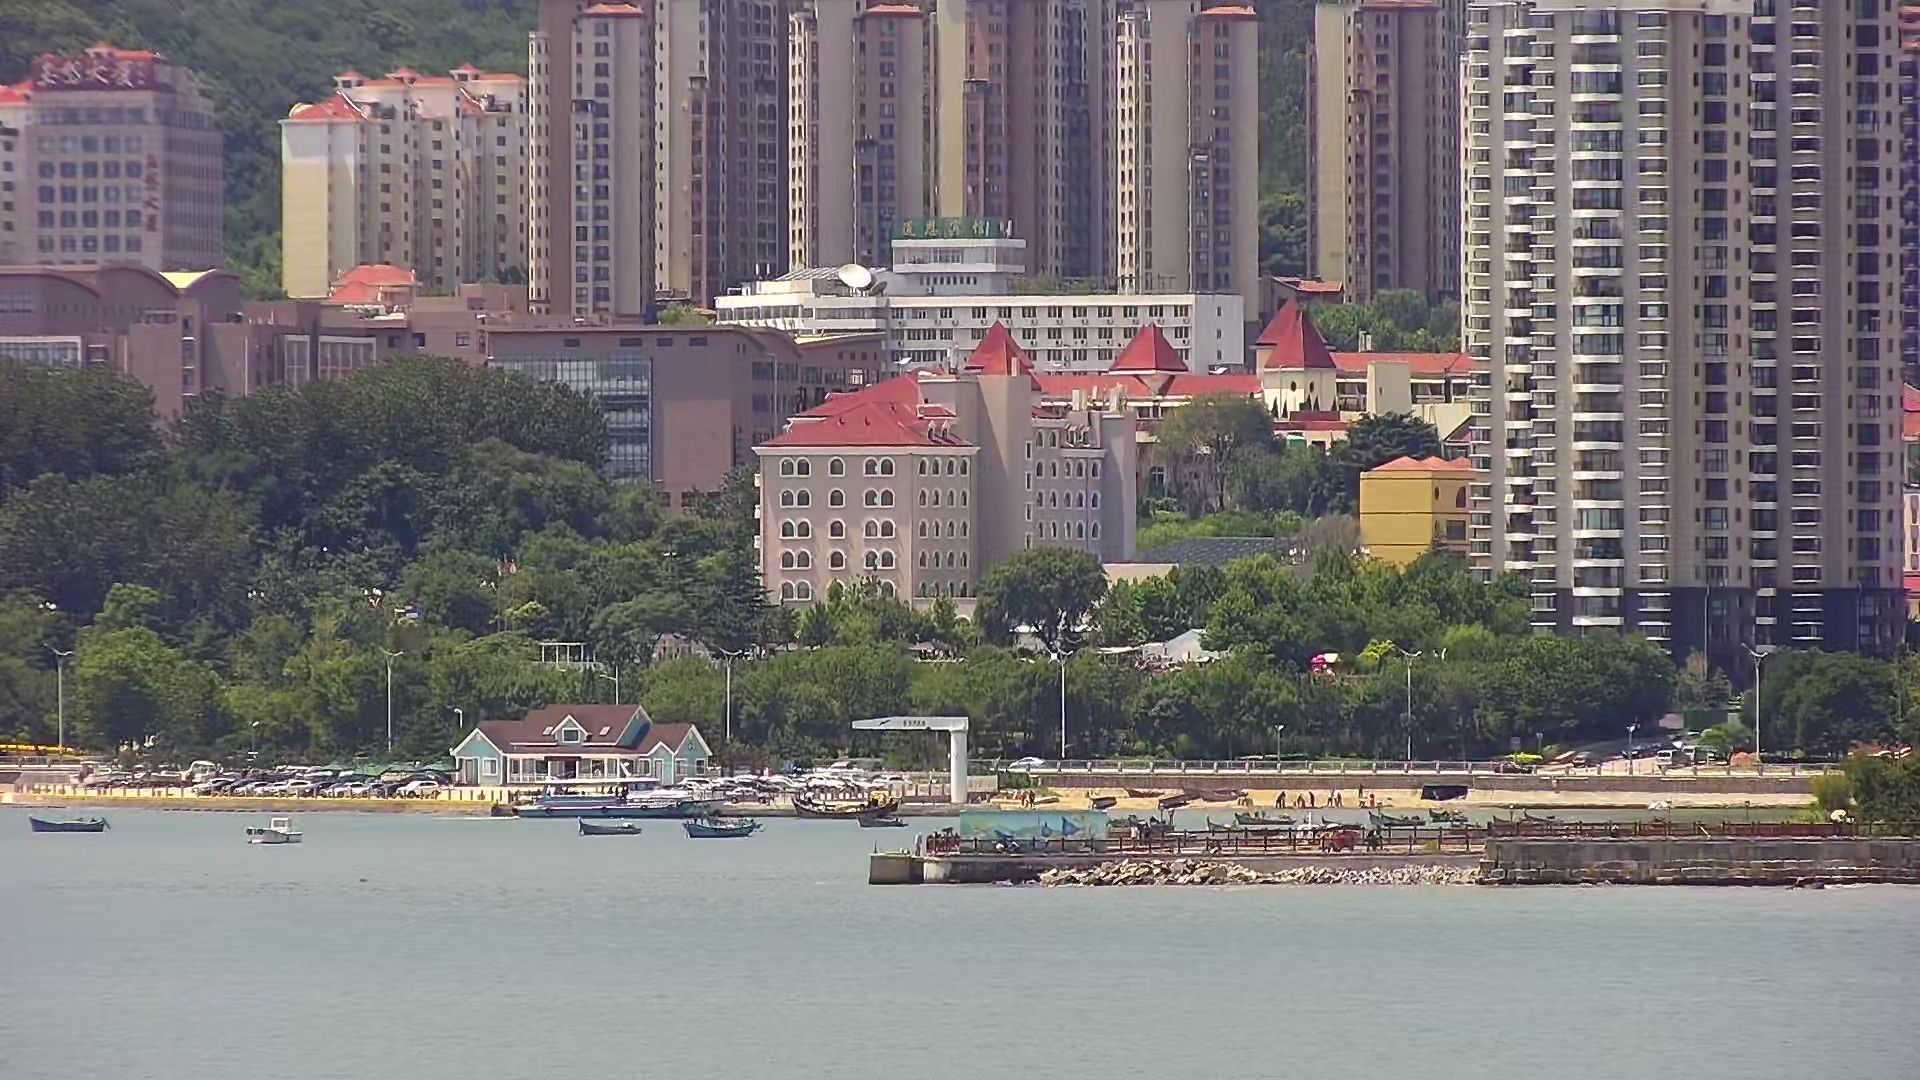boat: (671, 808, 769, 843), (22, 806, 115, 841), (245, 815, 310, 851), (567, 816, 647, 843)
harbor: (852, 715, 1605, 889)
